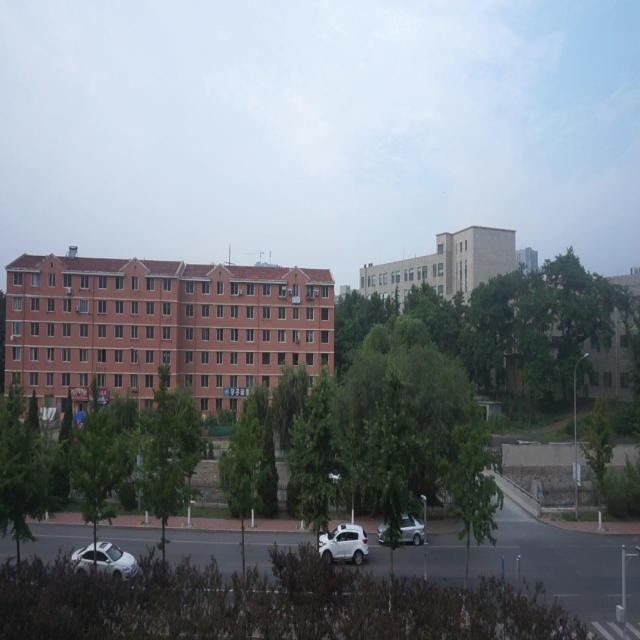drone: (326, 464, 344, 488)
